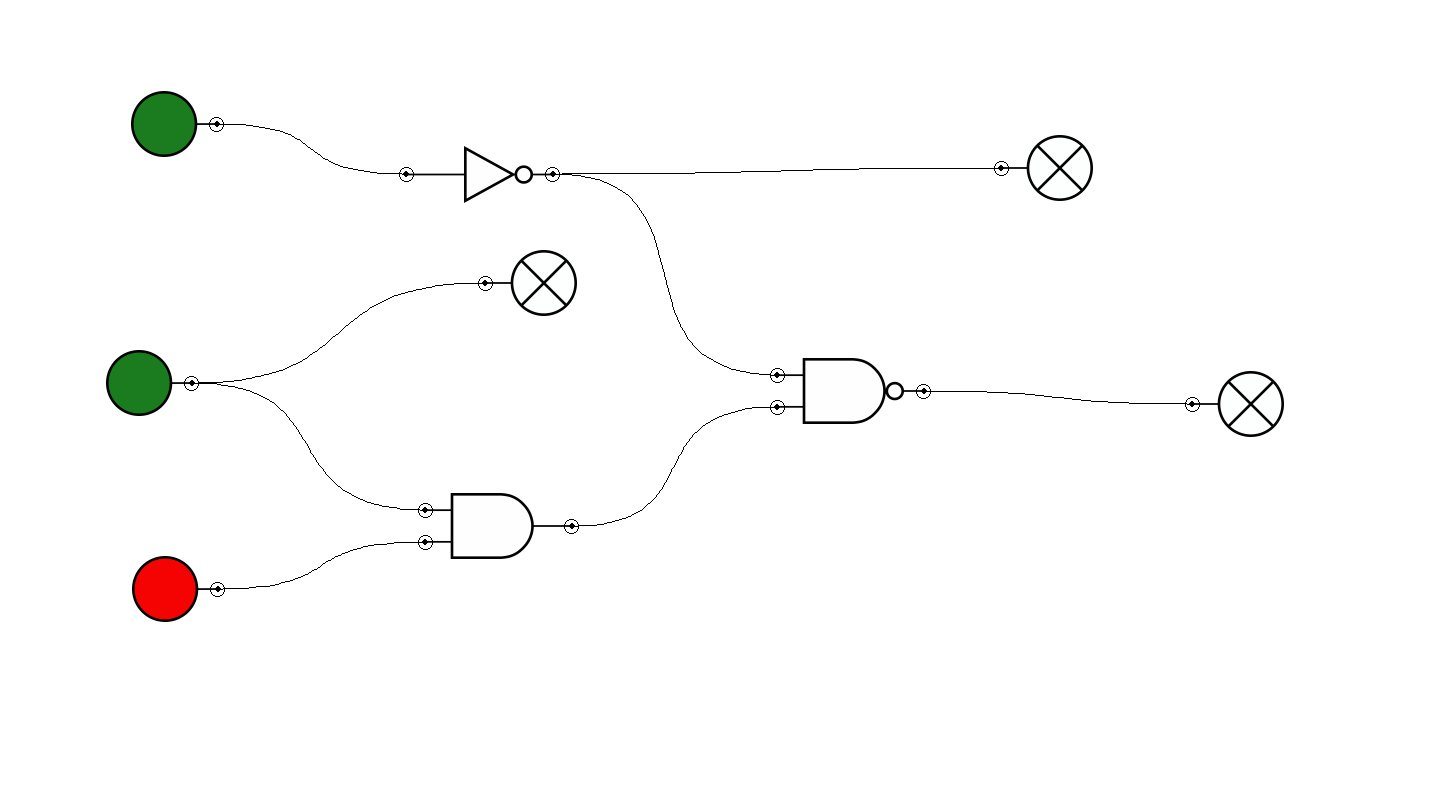and: (418, 493, 579, 559)
bulb: (478, 250, 577, 316), (994, 135, 1093, 201), (1185, 371, 1284, 437)
nand: (770, 358, 931, 424)
not: (399, 146, 560, 203)
switch_False: (132, 556, 225, 622)
switch_True: (106, 350, 199, 416), (131, 91, 224, 157)
